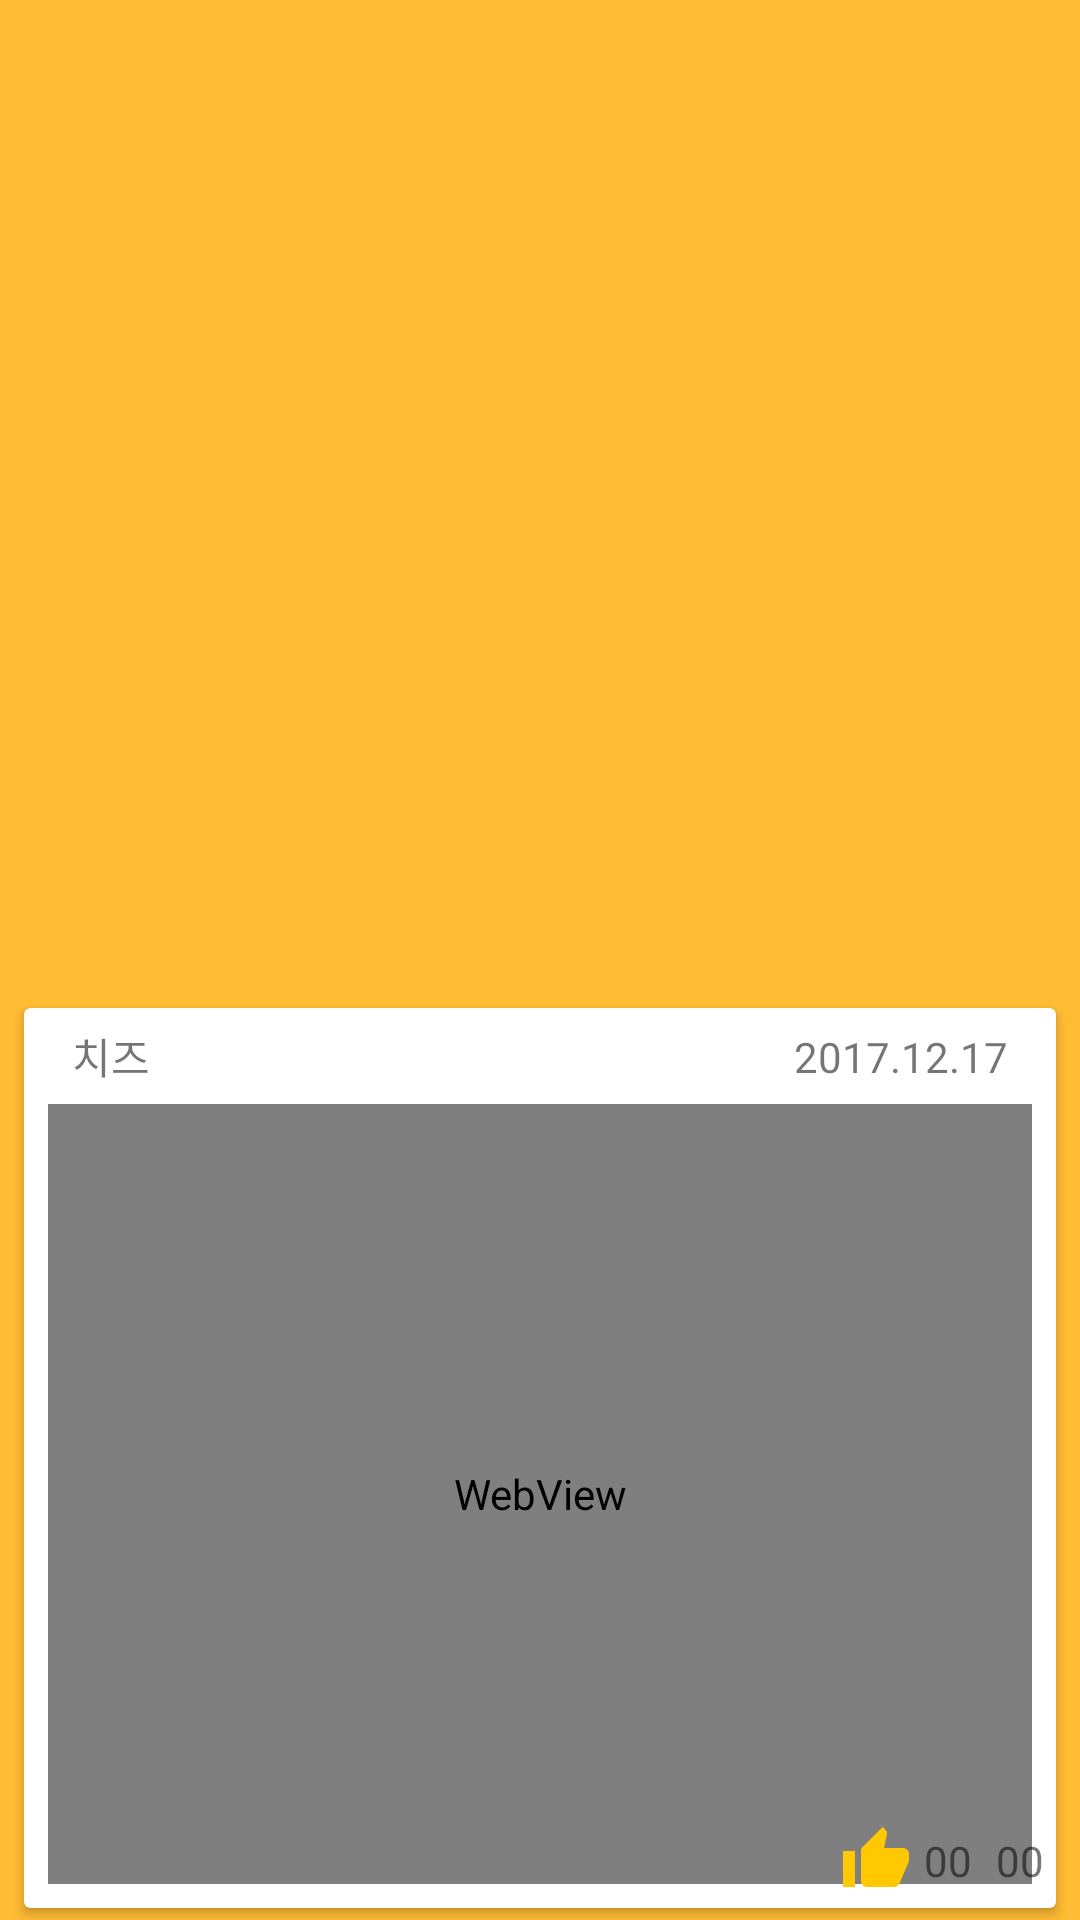

Named icons in this screenshot (1080 x 1920) and their bounding boxes, (x1, y1, x2, y2):
thumb up tint: (840, 1827, 912, 1896)
